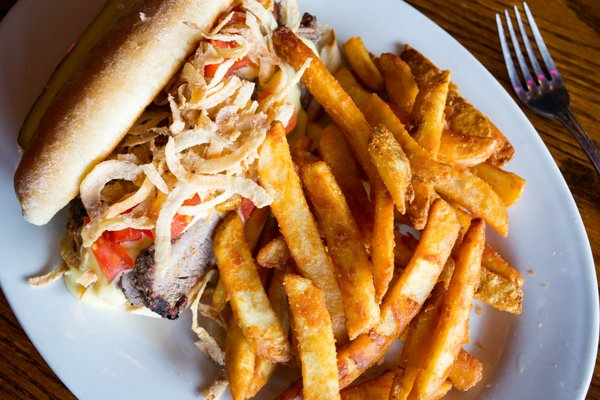burger: (495, 2, 600, 183)
